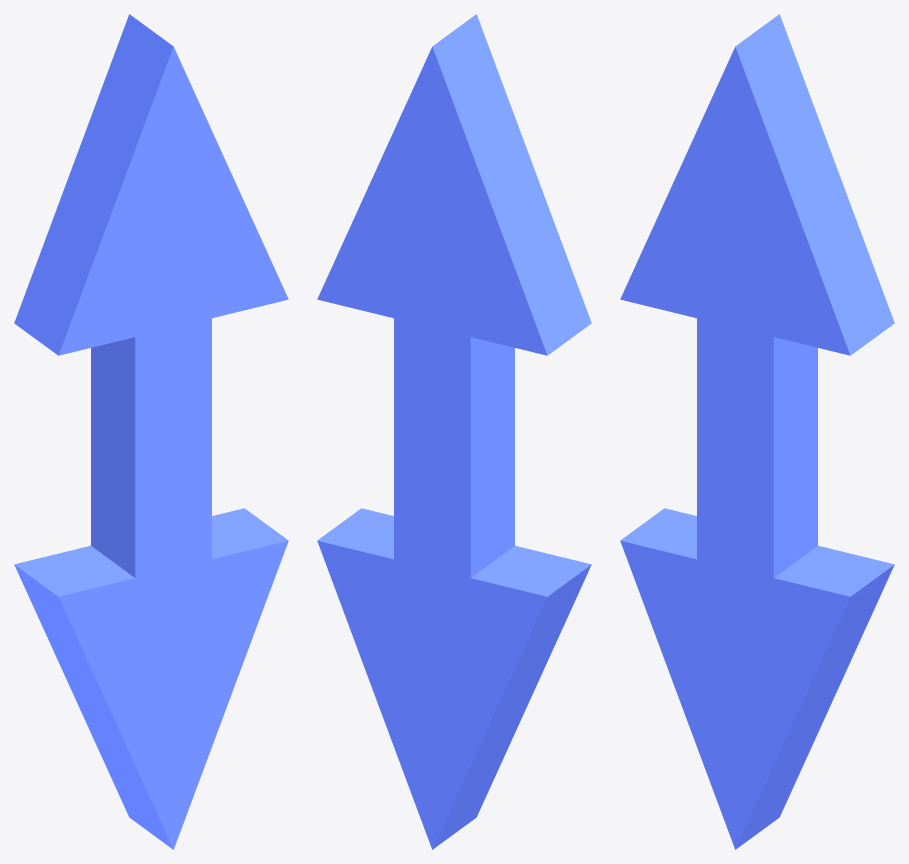
The model's file is anno_arrow_move_double.glb.
3 renders of one model, left to right at view 1: azimuth 30°, elevation 25°; view 2: azimuth 150°, elevation 25°; view 3: azimuth 330°, elevation 25°, orthographic.
Parts seen in each view (by area): view 1: anno_arrow_move_double; view 2: anno_arrow_move_double; view 3: anno_arrow_move_double.
Part boxes in pixels (<box>): anno_arrow_move_double: <box>14,14,288,849</box>; anno_arrow_move_double: <box>317,14,591,849</box>; anno_arrow_move_double: <box>620,14,894,849</box>.
Size of the model in its own units: 0.06 by 0.2 by 0.02.
